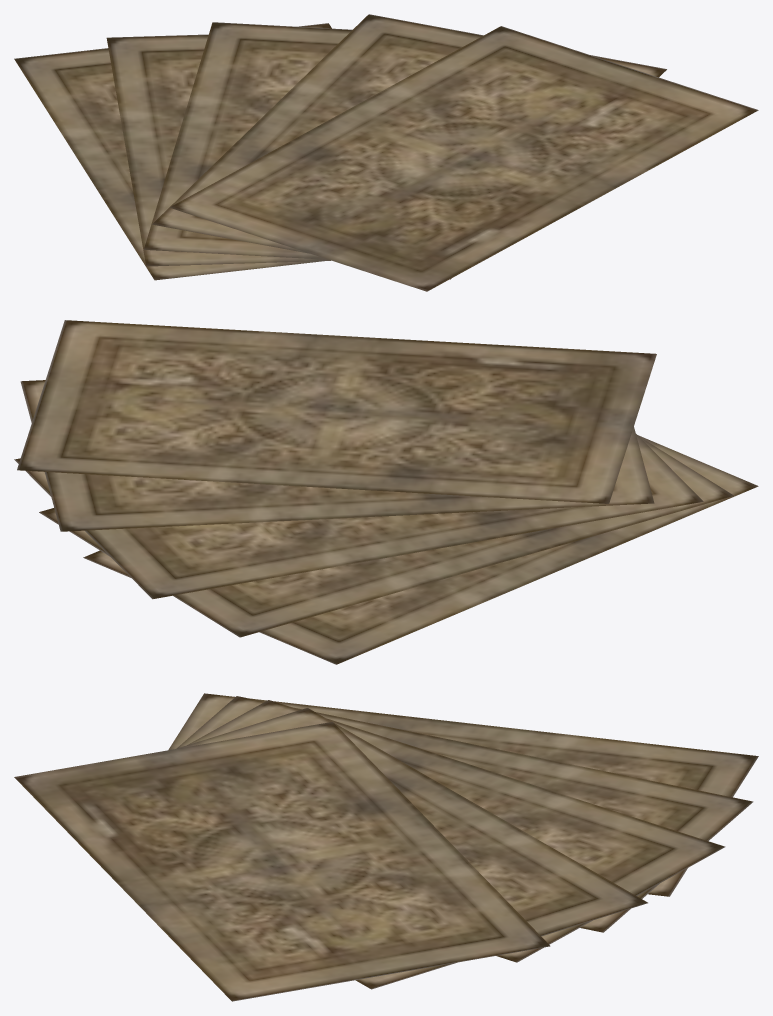
The model's file is pir_m_hnd_crd_hand_5.fbx.
The picture shows the model from 3 angles, top to bottom: view 1: azimuth 30°, elevation 25°; view 2: azimuth 150°, elevation 25°; view 3: azimuth 270°, elevation 25°; orthographic projection. The views are drawn at different scales.
Parts seen in each view (by area): view 1: card_5, card_3, card_4, card_2, card_1; view 2: card_5, card_3, card_4, card_2, card_1; view 3: card_5, card_3, card_4, card_1, card_2.
Boxes of the visible parts, x1,y1,x2,y2 form: card_5: (169, 26, 758, 291); card_3: (143, 22, 352, 259); card_4: (152, 14, 666, 279); card_2: (106, 34, 330, 266); card_1: (14, 23, 331, 280); card_5: (17, 320, 656, 503); card_3: (14, 434, 703, 599); card_4: (20, 380, 654, 531); card_2: (39, 436, 733, 637); card_1: (83, 435, 758, 664); card_5: (14, 722, 550, 1001); card_3: (187, 700, 725, 962); card_4: (176, 708, 647, 989); card_1: (168, 693, 758, 896); card_2: (177, 696, 753, 932).
Size of the model in its own units: 54.72 by 0.8394 by 54.05.
1 material, 1 textured.
